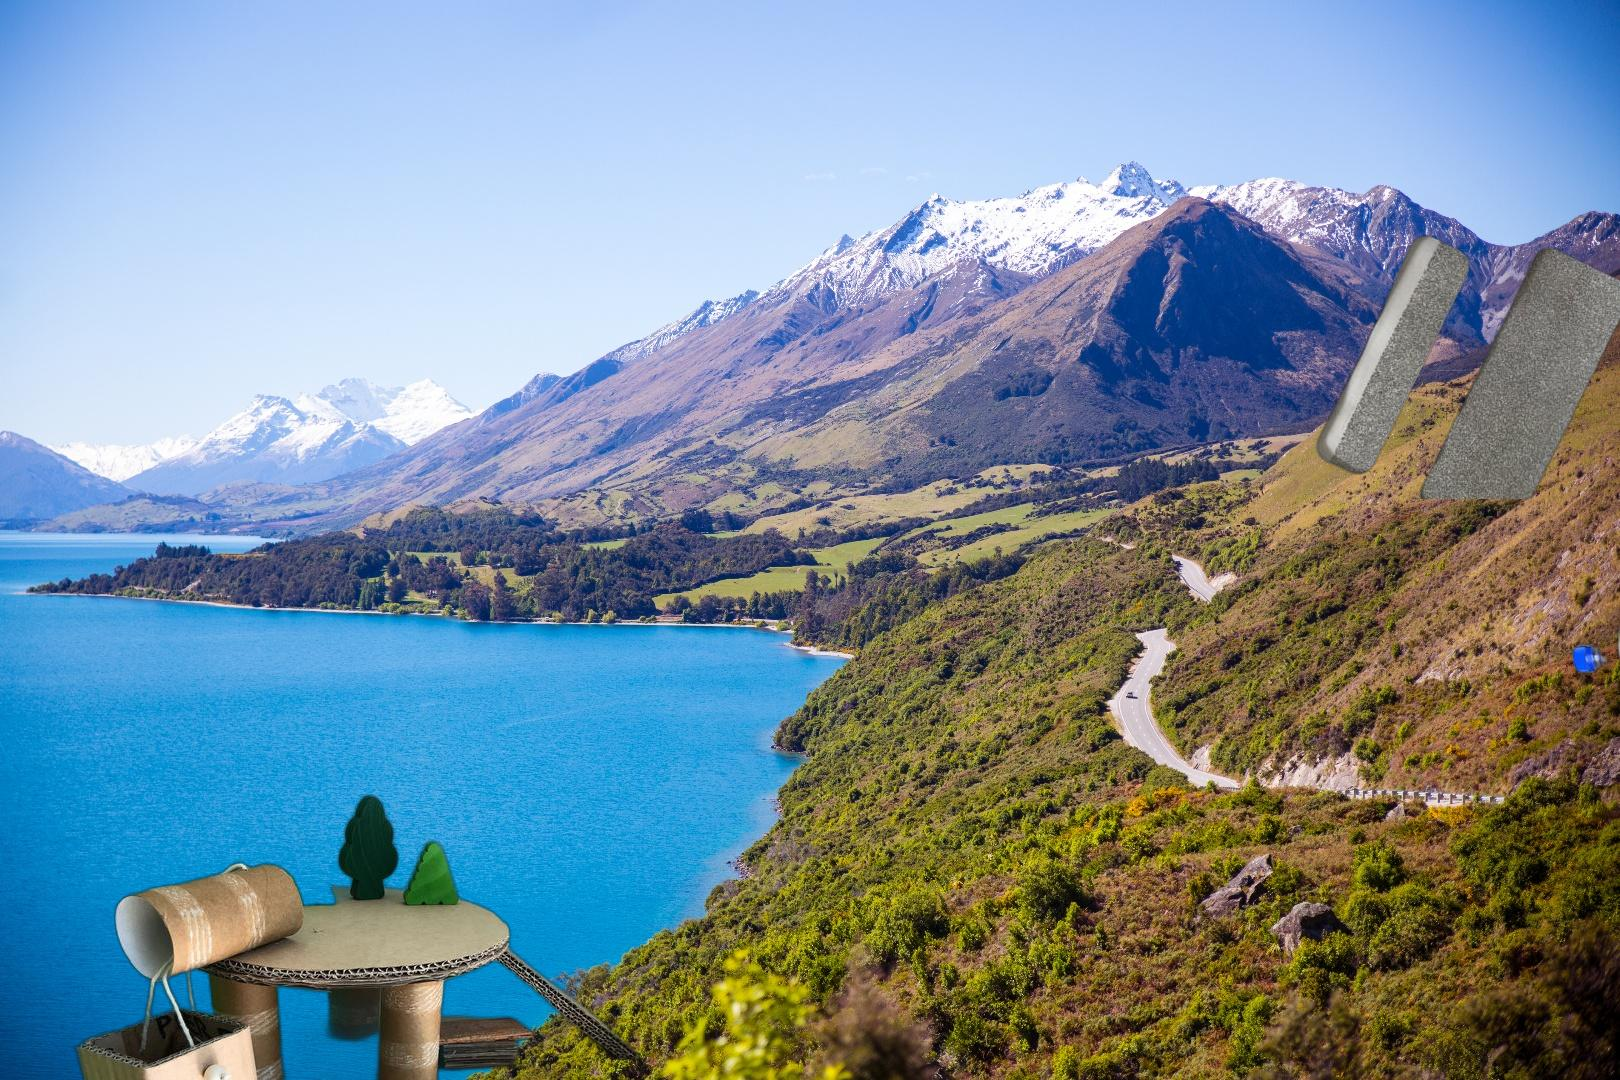paper: (1311, 231, 1620, 499)
penholder: (1461, 952, 1620, 1080)
plastic-bottles: (1568, 574, 1620, 688)
trashbox-cardboard: (71, 790, 665, 1080)
